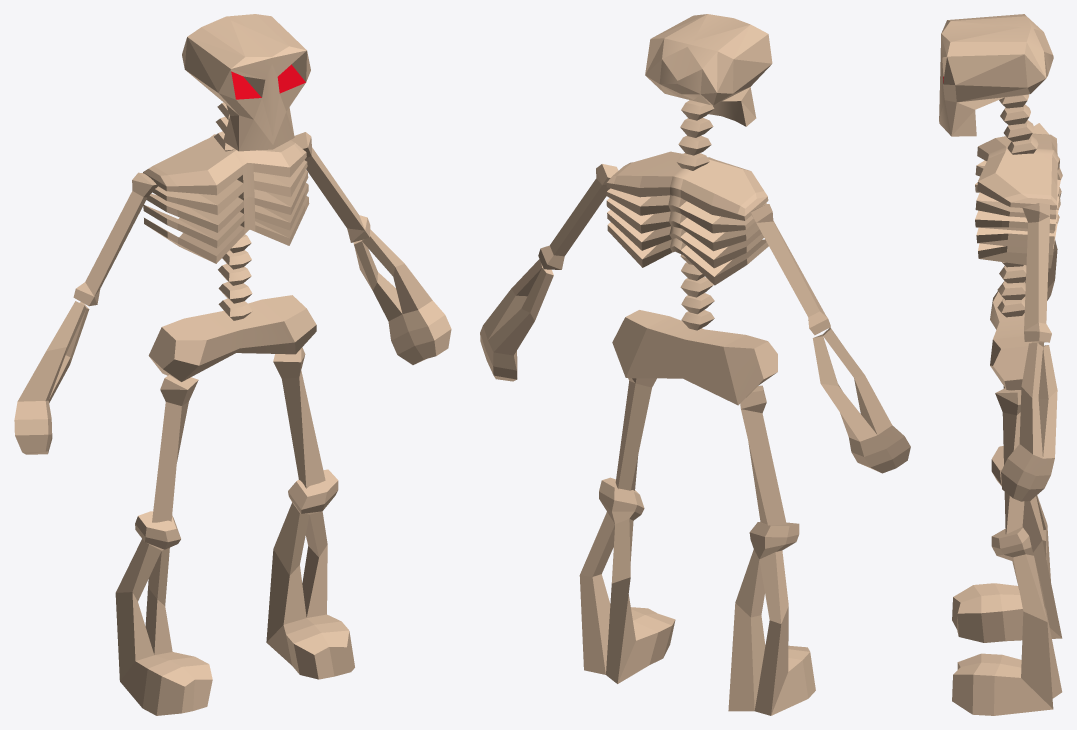
Rendered from iskelet.fbx.
3 views of the same model, side by side, from view 1: azimuth 30°, elevation 25°; view 2: azimuth 150°, elevation 25°; view 3: azimuth 270°, elevation 25° (orthographic). The views are drawn at different scales.
Visible parts, largest first — view 1: Cube; view 2: Cube; view 3: Cube.
Boxes of the visible parts, x1,y1,x2,y2 form: Cube: [14, 14, 451, 715]; Cube: [480, 14, 910, 715]; Cube: [939, 14, 1062, 715].
Size of the model in its own units: 143 by 204 by 35.79.
